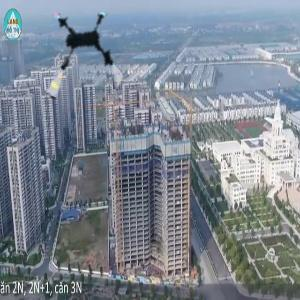drone: (32, 8, 132, 108)
